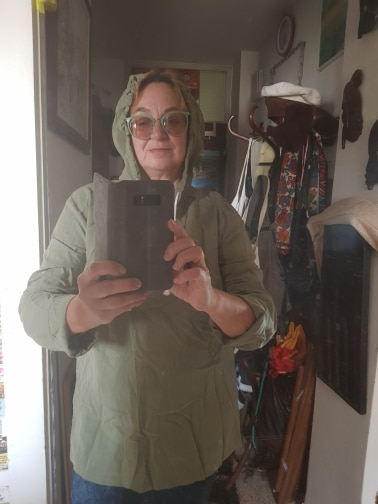shirts: (41, 178, 264, 482)
